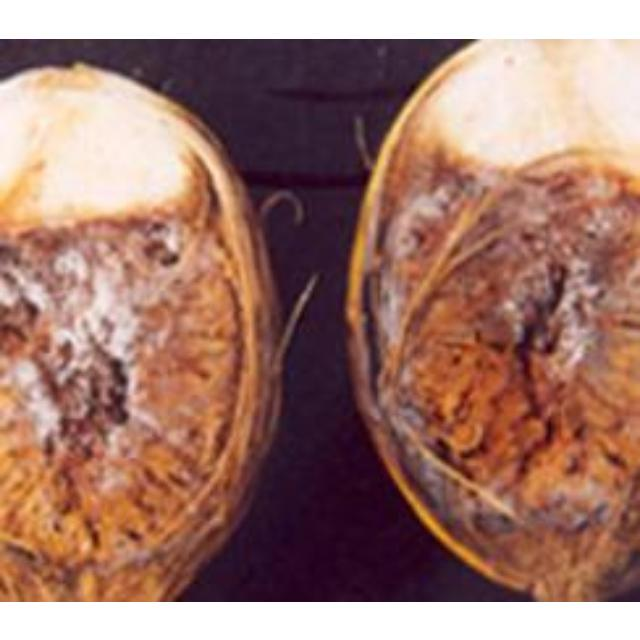damaged: (349, 38, 637, 599), (0, 64, 273, 599)
